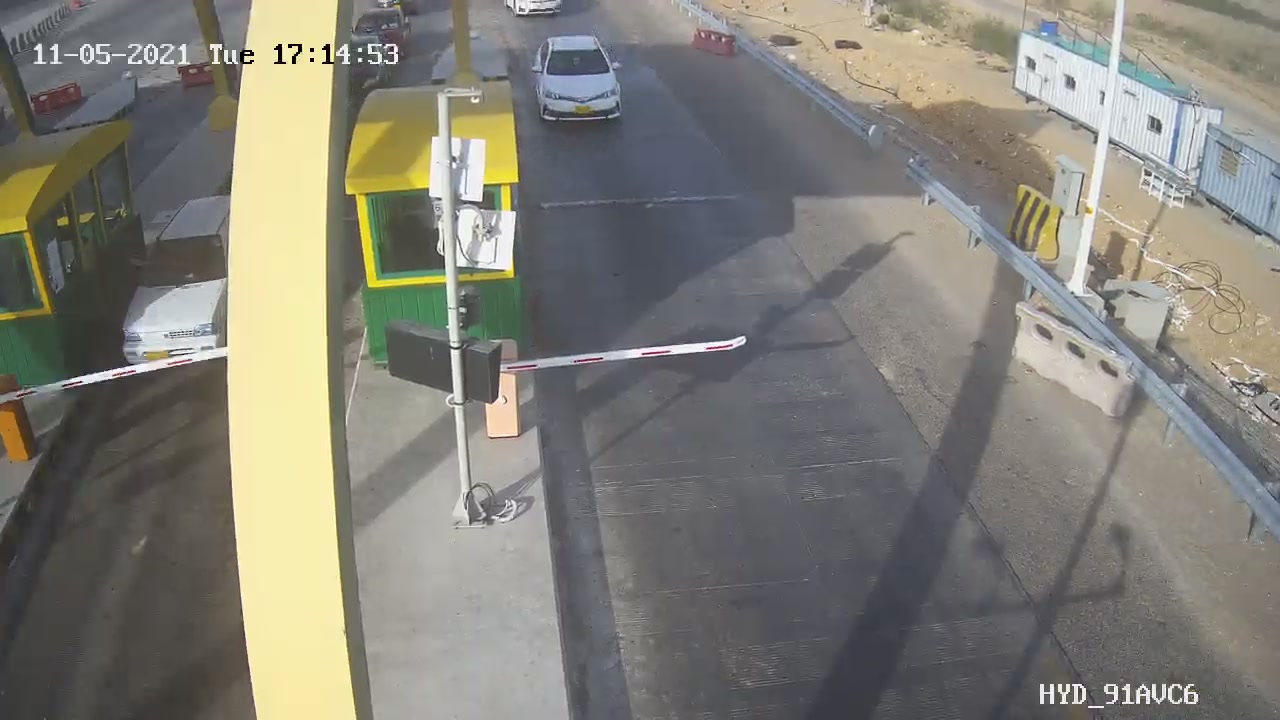F1: (516, 24, 638, 136)
